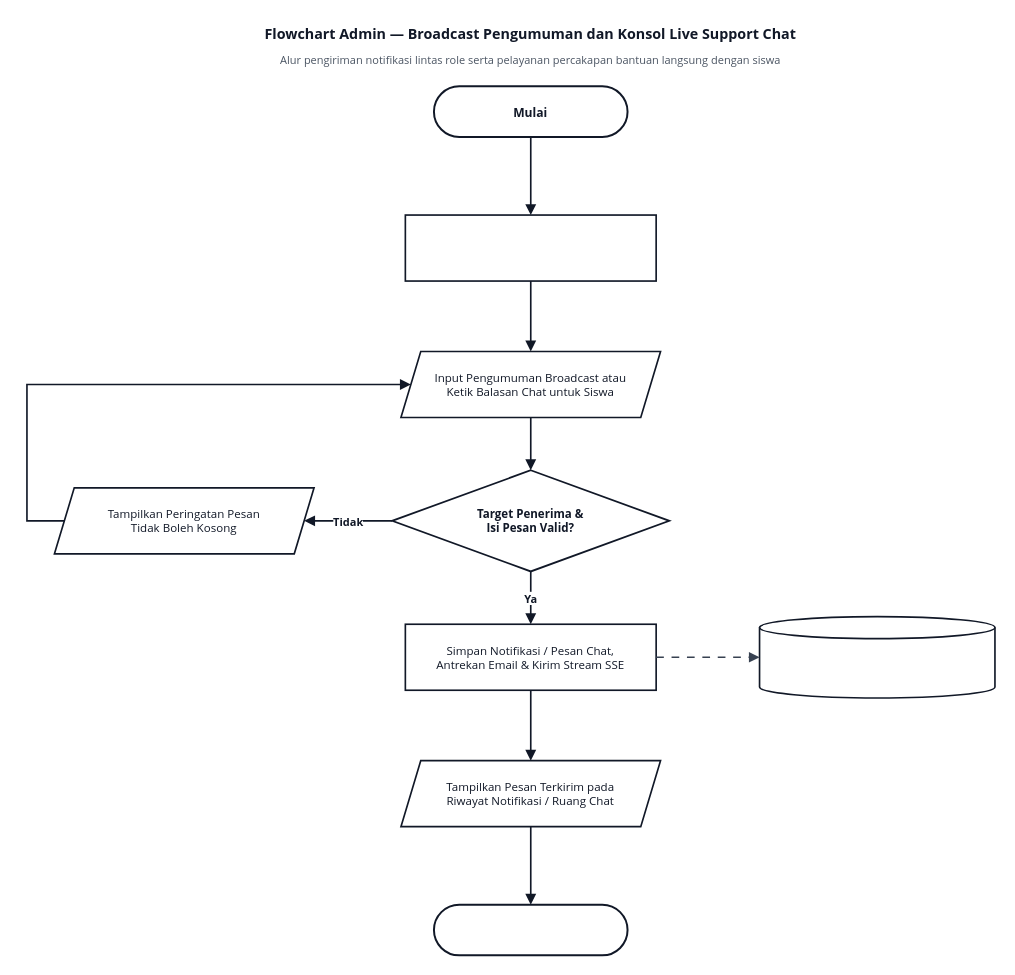
The diagram is 1015 pixels wide and 975 high, and some of its shapes have lost their labels. Here are the shapes that lost their labels. From the top down, the centre of each, then its label:
At (530,247): "Buka Halaman Notifikasi atau Konsol Pusat Bantuan Live Chat".
At (876,656): "SQL Server: lms_notifications & support_chat_messages".
At (530,929): "Selesai".
